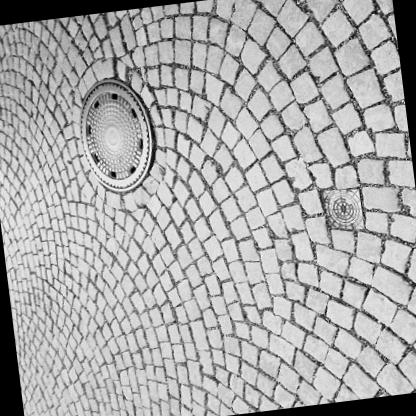manholes: (51, 60, 185, 209)
